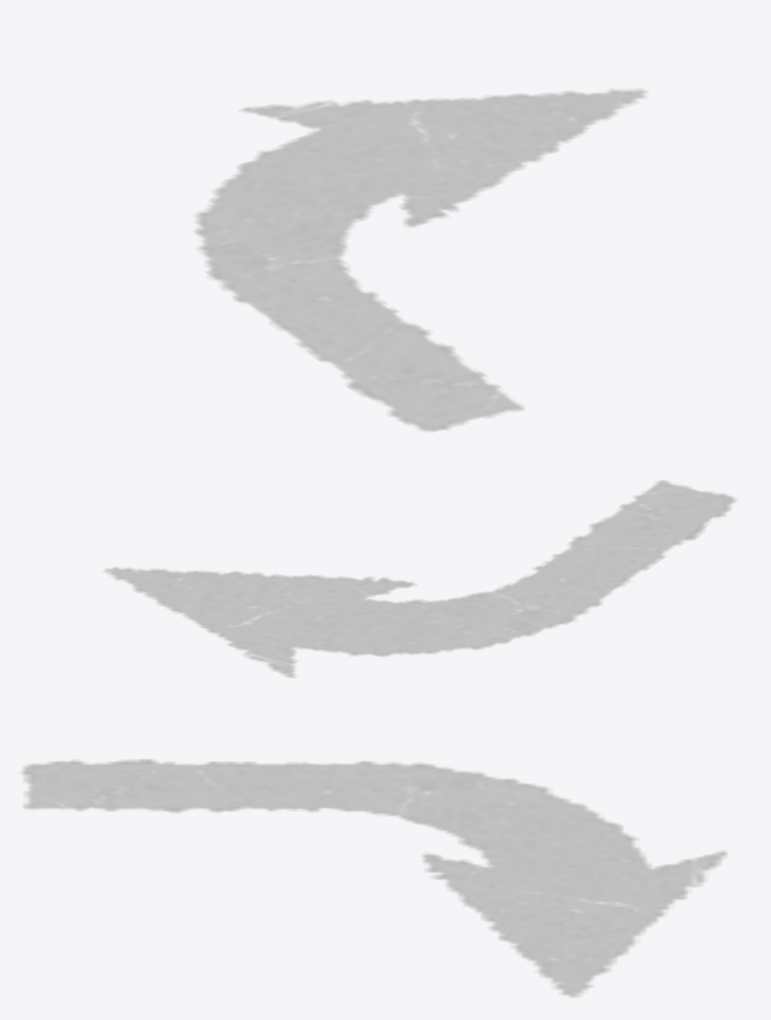
File: q-downtown-decal-arrowturnright.glb
3 views of the same model, one above another, from view 1: azimuth 30°, elevation 25°; view 2: azimuth 150°, elevation 25°; view 3: azimuth 270°, elevation 25° (orthographic). The views are drawn at different scales.
Parts seen in each view (by area): view 1: Decal_ArrowTurnRight; view 2: Decal_ArrowTurnRight; view 3: Decal_ArrowTurnRight.
Boxes of the visible parts, box(x1,y1,x2,y2) form: Decal_ArrowTurnRight: box(195, 90, 646, 431); Decal_ArrowTurnRight: box(105, 480, 736, 677); Decal_ArrowTurnRight: box(22, 759, 727, 997).
Size of the model in its own units: 1.99 by 0 by 2.5.
Materials: 1 (1 with a texture image).
